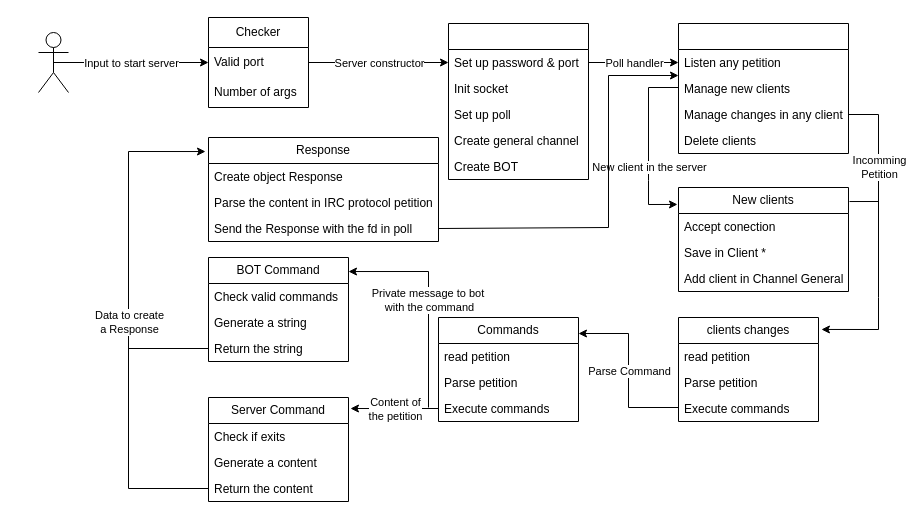
The diagram is 923 pixels wide and 522 high, and some of its shapes have lost their labels. The shapes that lost their labels are listed below. From the top down, each one's box as (x1, y1, x2, y2) in pixels, then its label:
(38, 32, 68, 92): Server Admin
(448, 22, 588, 180): Create Server
(678, 22, 848, 154): Poll
